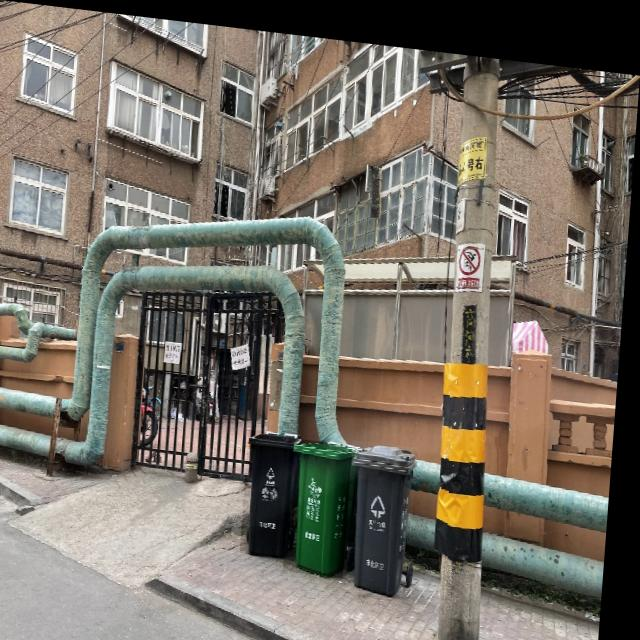garbage_bin: (350, 431, 424, 587), (291, 430, 362, 569), (248, 423, 307, 551)
